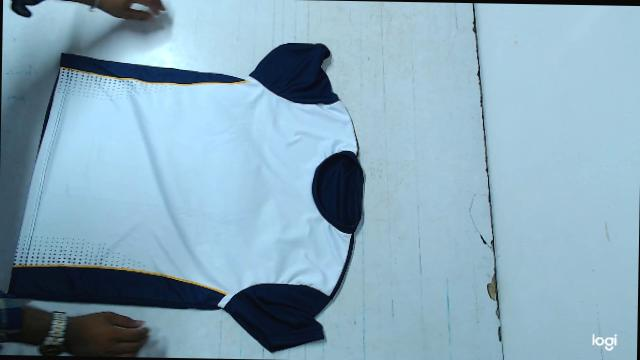new-garment: (10, 43, 363, 351)
